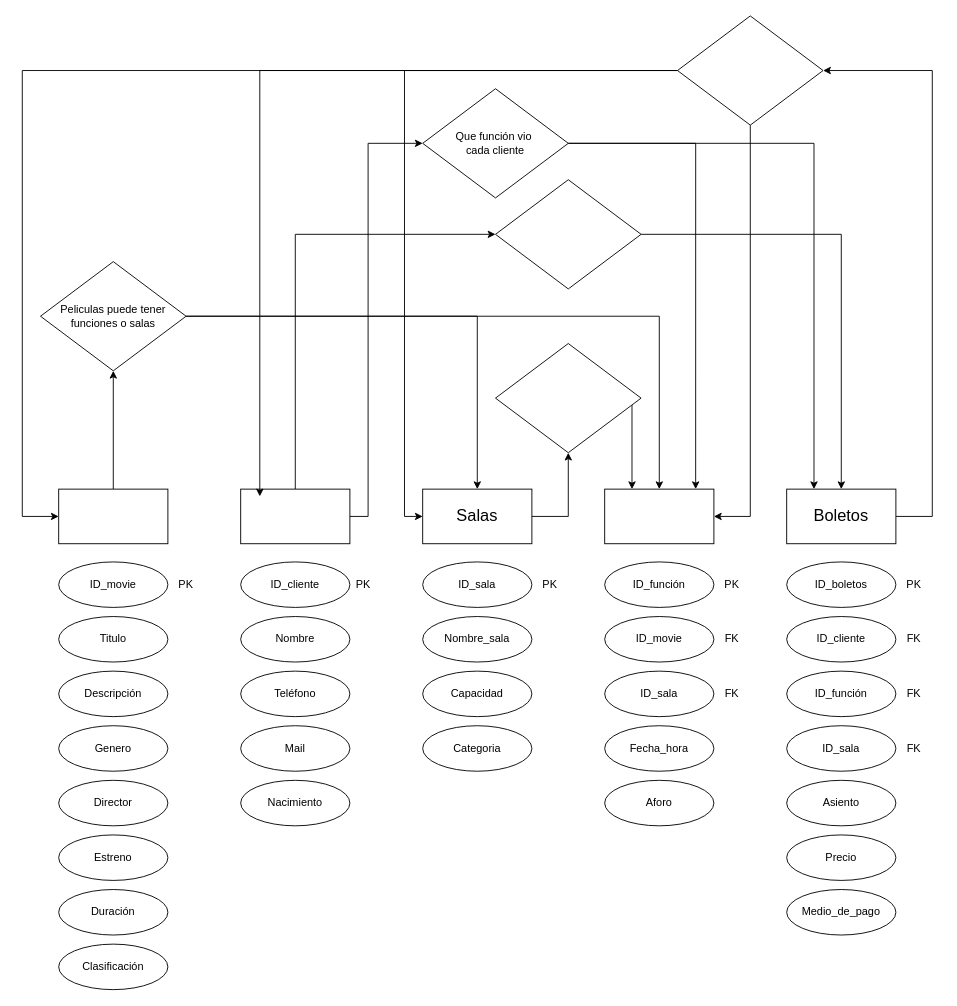
The diagram is 957 pixels wide and 1006 high, and some of its shapes have lost their labels. The shapes that lost their labels are listed below. From the top down, each one's box as (x1, y1, x2, y2) in pixels, then its label:
(677, 15, 823, 125): Boleto asociado a una función, cliente, sala o película
(495, 179, 641, 289): Cliente puede comprar varios boletos
(495, 343, 641, 453): Salas puede tener funciones
(58, 488, 168, 544): Peliculas
(240, 488, 350, 544): Clientes
(604, 488, 714, 544): Funciones
